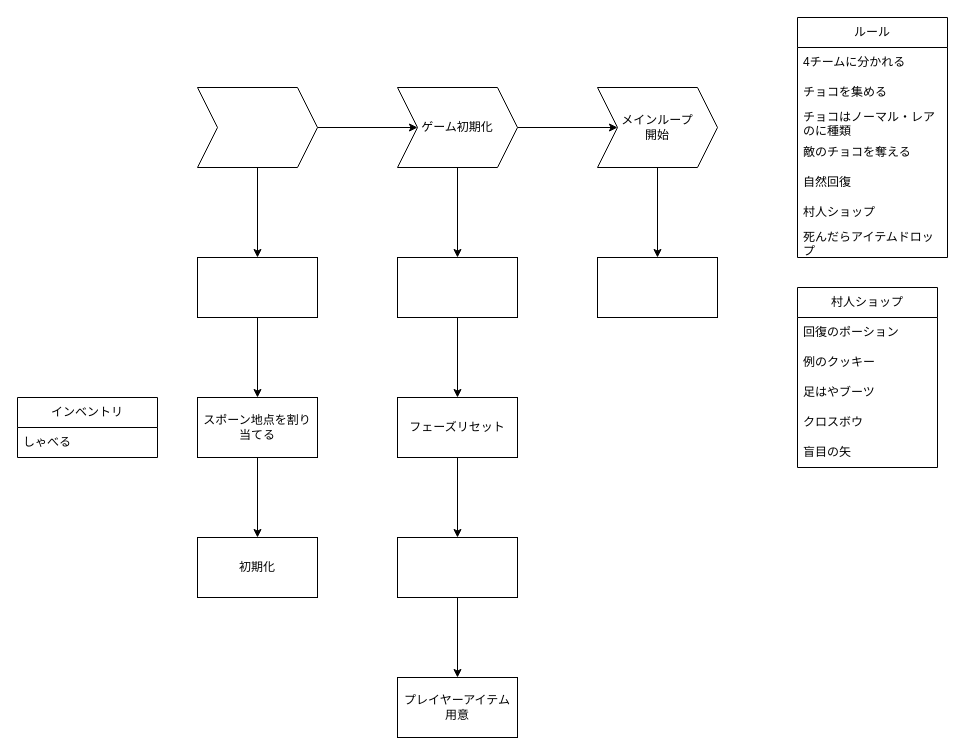
This 965x755 diagram has some shape labels left out. Here are the shapes that lost their labels. From the top down, the centre of each, then its label:
At (x=257, y=127): "チーム 初期化".
At (x=257, y=287): "それぞれのチームに プレイヤーを 割り当てる".
At (x=457, y=287): "時間リセット".
At (x=457, y=567): "プレイヤー位置用意".
